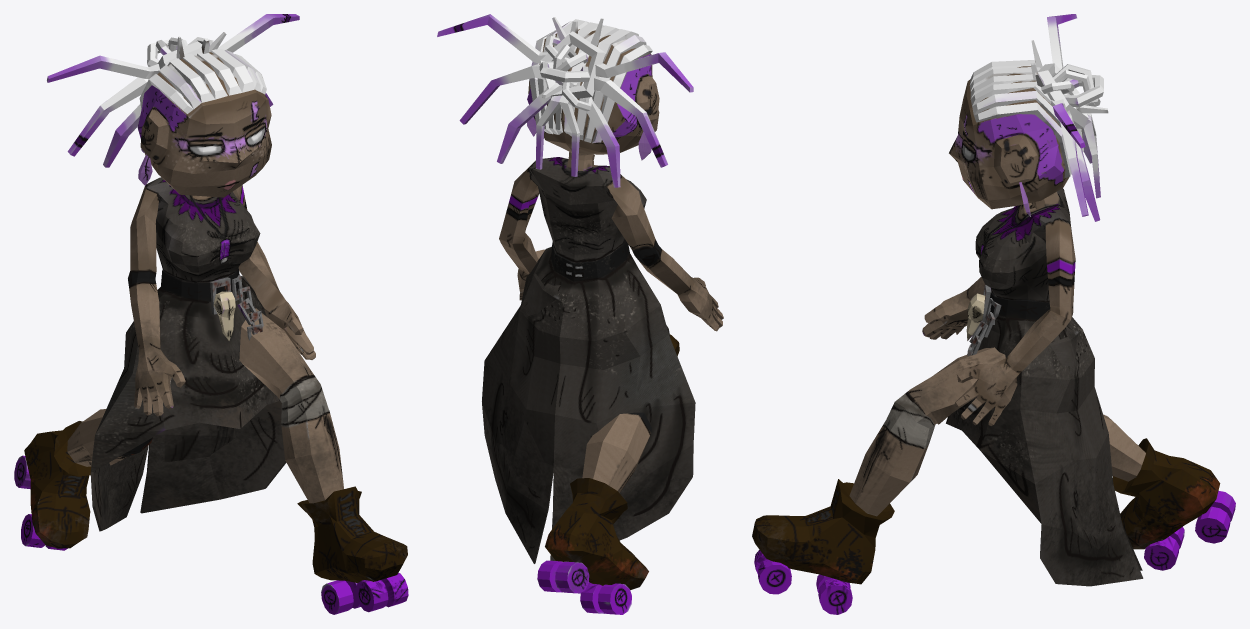
File: bruja_000003.obj
3 views of the same model, side by side, from view 1: azimuth 30°, elevation 25°; view 2: azimuth 150°, elevation 25°; view 3: azimuth 270°, elevation 25° (orthographic). The views are drawn at different scales.
Parts seen in each view (by area): view 1: Bruja_Plane.001; view 2: Bruja_Plane.001; view 3: Bruja_Plane.001.
Part boxes in pixels (x1=…): Bruja_Plane.001: x1=14, y1=14, x2=408, y2=614; Bruja_Plane.001: x1=437, y1=14, x2=723, y2=614; Bruja_Plane.001: x1=752, y1=14, x2=1235, y2=614.
Size of the model in its own units: 7.47 by 15.2 by 11.96.
